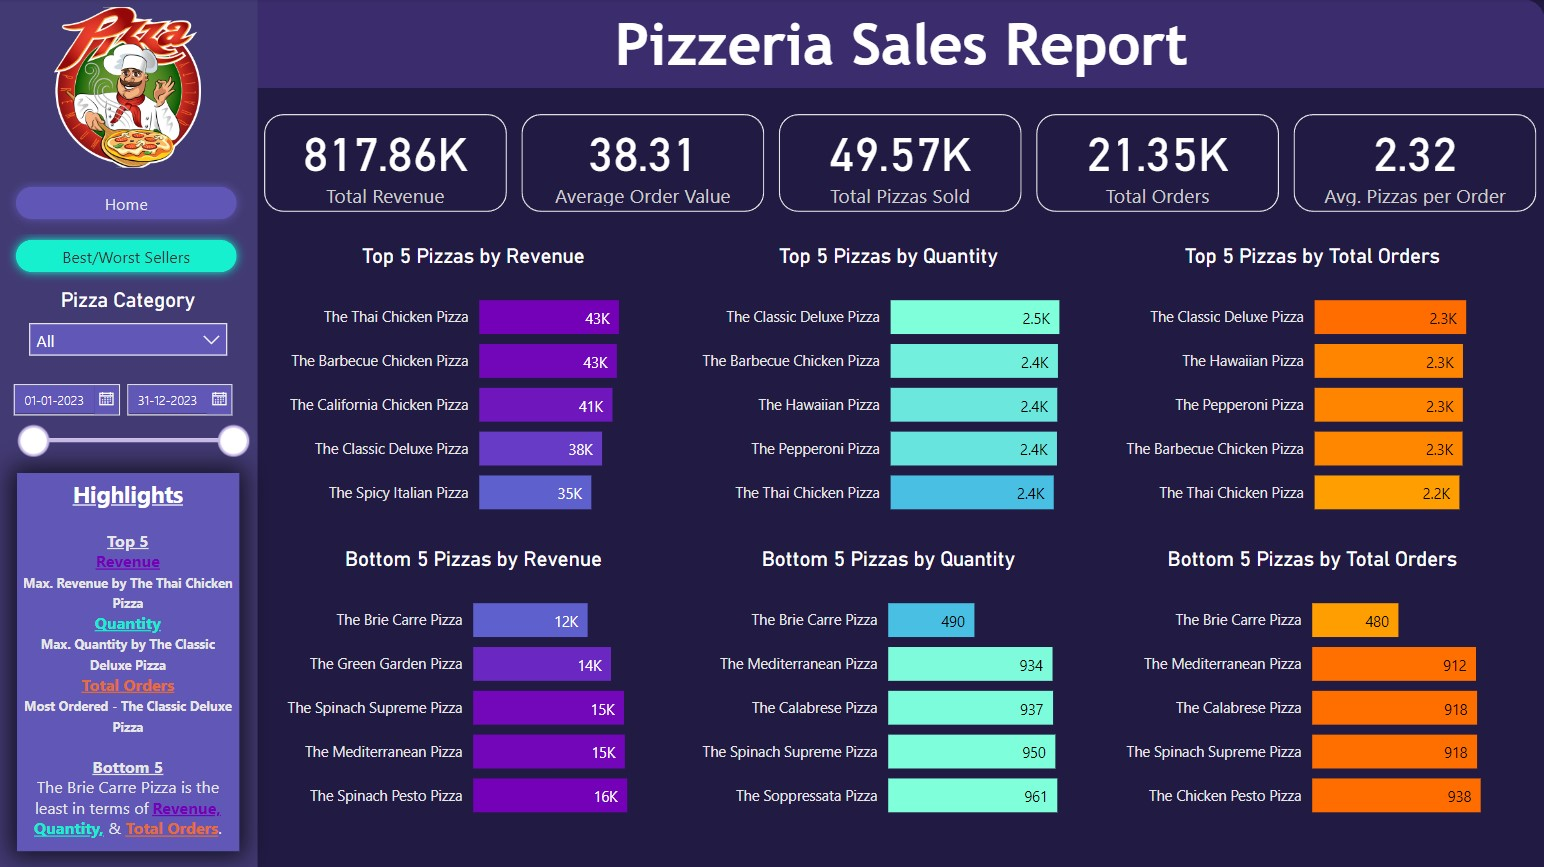

Layout of this report page (visuals, bound fields, positions):
{"tool":"powerbi","page":{"name":"Best/Worst Sellers","canvas":[1280,720],"ordinal":1},"visuals":[{"type":"cardVisual","fields":{"Data":["KPI's.Total Revenue","KPI's.Average Order Value","KPI's.Total Pizzas Sold","KPI's.Total Orders","KPI's.Avg. Pizzas per Order"]},"box":[214.8,90.4,1065.2,91.4],"z":0},{"type":"shape","box":[192.4,0,1087.6,73.9],"z":1000},{"type":"shape","box":[0,0,214.8,720.2],"z":2000},{"type":"textbox","box":[214.8,0,1065.2,73.9],"z":3000},{"type":"image","box":[0,1.9,214.8,142.9],"z":4000},{"type":"textbox","box":[15.8,392.5,183.5,312.6],"z":5000},{"type":"slicer","title":"Pizza Category","fields":{"Values":["pizza_sales.pizza_category"]},"box":[15.8,238.8,183.5,64.1],"z":6000},{"type":"slicer","fields":{"Values":["pizza_sales.order_date"]},"box":[0,309.1,215.1,74.6],"z":7000},{"type":"clusteredBarChart","title":"Top 5 Pizzas by Revenue","fields":{"Category":["pizza_sales.pizza_name"],"Y":["KPI's.Total Revenue"]},"box":[224.5,203.1,338.2,240.1],"z":8000},{"type":"clusteredBarChart","title":"Bottom 5 Pizzas by Revenue","fields":{"Category":["pizza_sales.pizza_name"],"Y":["KPI's.Total Revenue"]},"box":[224.5,453.9,338.2,240.1],"z":9000},{"type":"clusteredBarChart","title":"Top 5 Pizzas by Quantity","fields":{"Category":["pizza_sales.pizza_name"],"Y":["KPI's.Total Pizzas Sold"]},"box":[567.6,203.1,338.2,240.1],"z":10000},{"type":"clusteredBarChart","title":"Bottom 5 Pizzas by Quantity","fields":{"Category":["pizza_sales.pizza_name"],"Y":["KPI's.Total Pizzas Sold"]},"box":[567.6,453.9,338.2,240.1],"z":11000},{"type":"clusteredBarChart","title":"Top 5 Pizzas by Total Orders","fields":{"Category":["pizza_sales.pizza_name"],"Y":["KPI's.Total Orders"]},"box":[918.5,203.1,338.2,240.1],"z":12000},{"type":"clusteredBarChart","title":"Bottom 5 Pizzas by Total Orders","fields":{"Category":["pizza_sales.pizza_name"],"Y":["KPI's.Total Orders"]},"box":[918.5,453.9,338.2,240.1],"z":13000},{"type":"pageNavigator","box":[7,147.5,199.3,43.9],"z":13001},{"type":"pageNavigator","box":[7,191.4,199.3,43.9],"z":13002}]}

Visuals, with their boxes in screenshot pixels (x1, y1, x2, y2), scaled from the page's 1280x720 canvas onto the 1544x867 screenshot:
cardVisual - KPI's.Total Revenue x KPI's.Average Order Value: 259,109,1543,219
shape: 232,0,1543,89
shape: 0,0,259,866
textbox: 259,0,1543,89
image: 0,2,259,174
textbox: 19,473,240,849
"Pizza Category" slicer: 19,288,240,365
slicer - pizza_sales.order_date: 0,372,259,462
"Top 5 Pizzas by Revenue" clusteredBarChart: 271,245,679,534
"Bottom 5 Pizzas by Revenue" clusteredBarChart: 271,547,679,836
"Top 5 Pizzas by Quantity" clusteredBarChart: 685,245,1093,534
"Bottom 5 Pizzas by Quantity" clusteredBarChart: 685,547,1093,836
"Top 5 Pizzas by Total Orders" clusteredBarChart: 1108,245,1516,534
"Bottom 5 Pizzas by Total Orders" clusteredBarChart: 1108,547,1516,836
pageNavigator: 8,178,249,230
pageNavigator: 8,230,249,283
